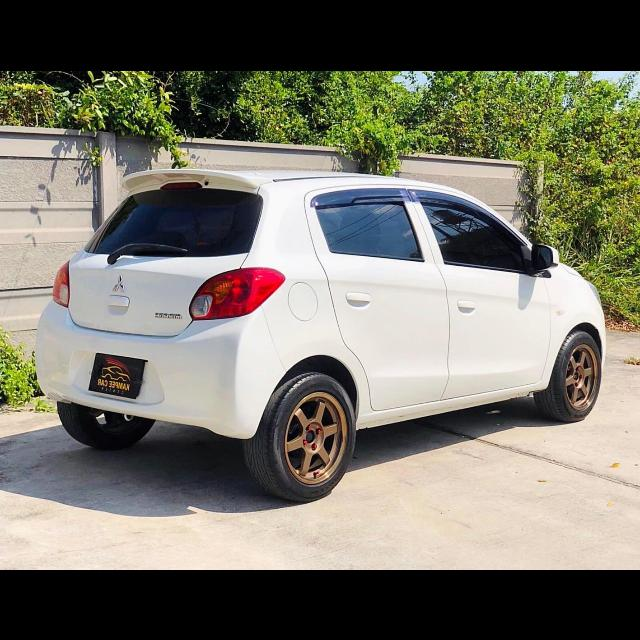cars: (24, 158, 612, 510)
